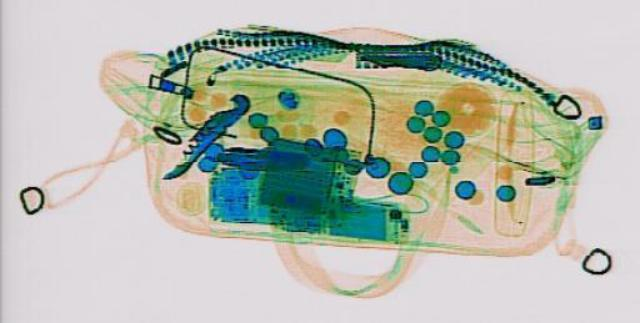Knife: (150, 91, 258, 180)
